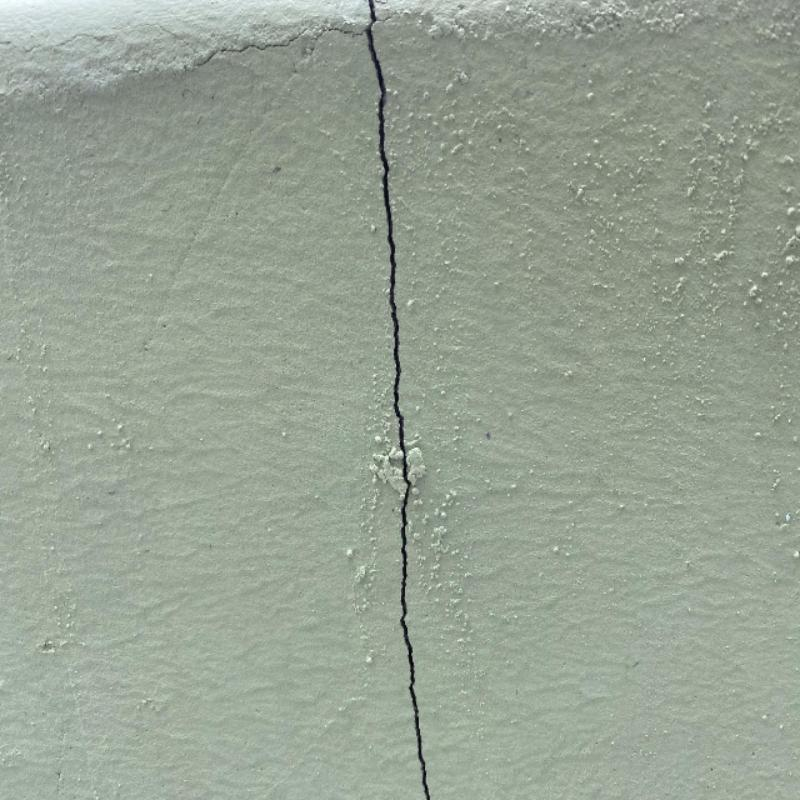crack: (361, 4, 430, 795)
